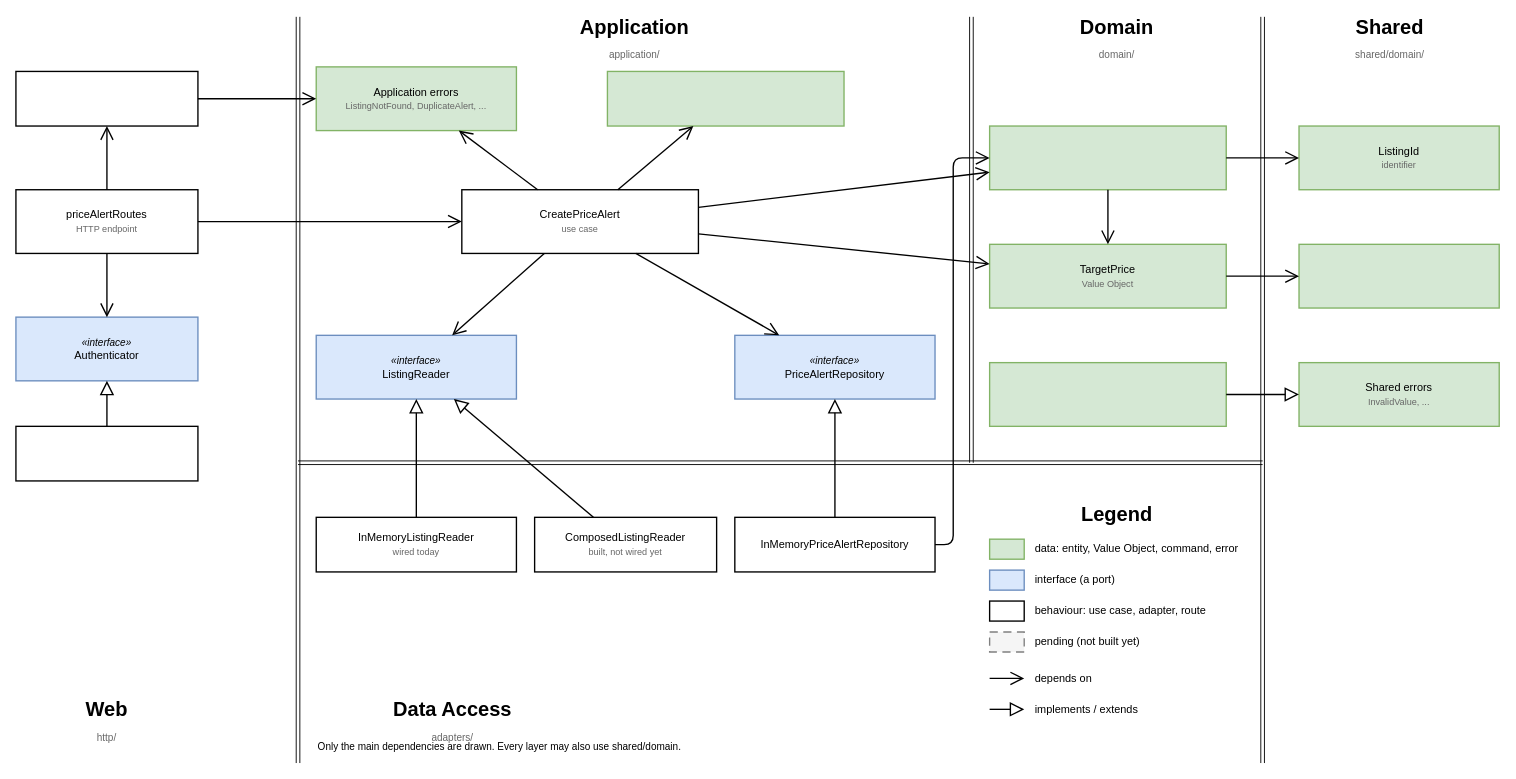
The diagram is 1516 pixels wide and 779 high, and some of its shapes have lost their labels. The shapes that lost their labels are listed below. From the top down, each one's centre as x and y in pixels, then its label:
the point at 106,98: toHttpError errors to HTTP responses
the point at 725,98: CreatePriceAlertCommand / Result
the point at 1107,157: PriceAlert entity
the point at 1398,275: Price Value Object
the point at 1107,394: Domain errors TargetAlreadyReached, ...
the point at 106,453: InMemoryAuthenticator demo tokens
